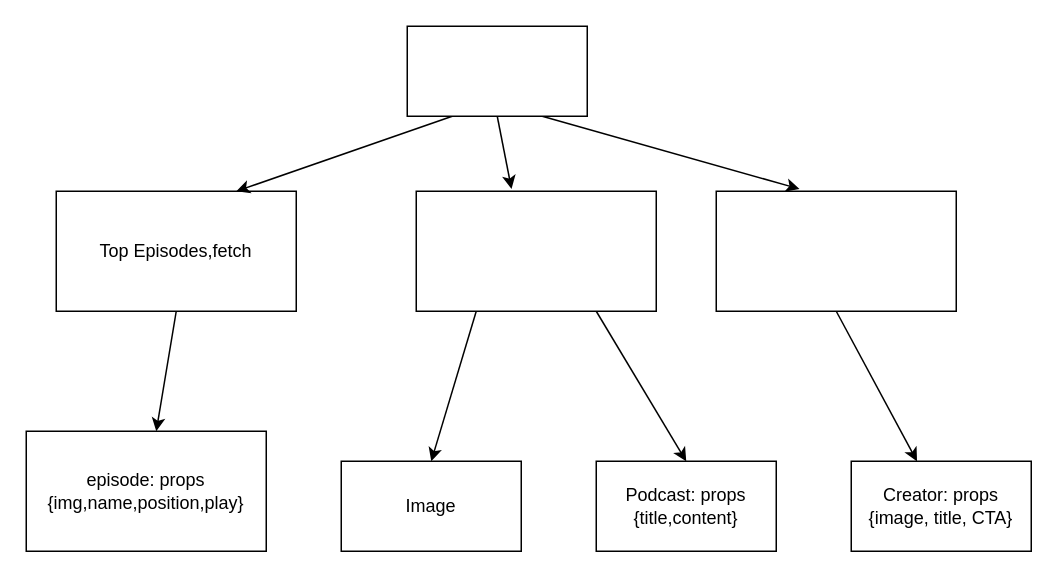
The diagram is 1058 pixels wide and 578 high, and some of its shapes have lost their labels. Here are the shapes that lost their labels. From the top down, the centre of each, then its label:
At [496,70]: "dashboard".
At [535,250]: "Explore,fetch".
At [835,250]: "Top creator".
